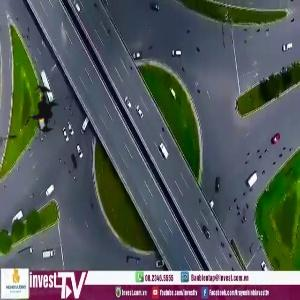drone: (2, 71, 79, 148)
